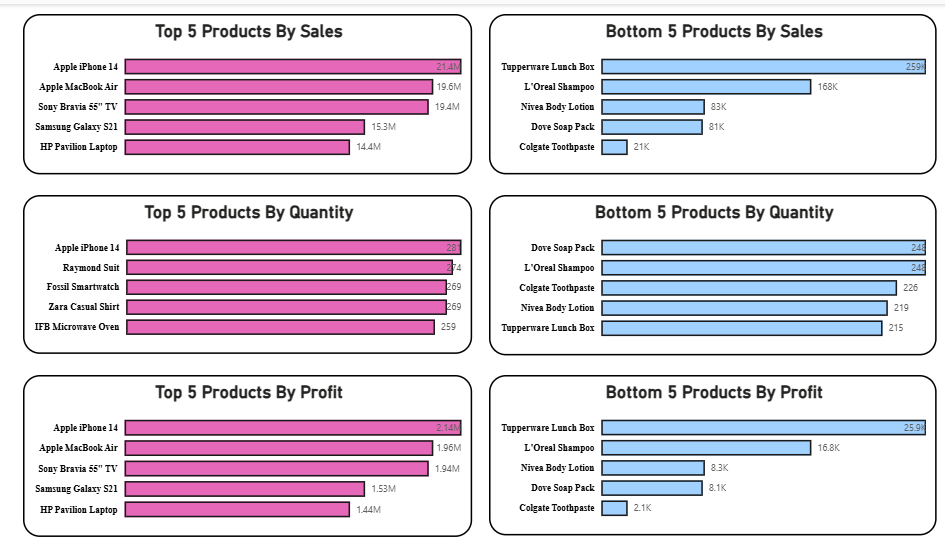

What the dashboard file says about the page in this screenshot:
{"tool":"powerbi","page":{"name":"Top 5 Products By Sales/Quantity Sold/Profit","canvas":[1280,720],"ordinal":0},"visuals":[{"type":"barChart","title":"Top 5 Products By Sales","fields":{"Y":["Sum(Fact Table.net sales.1)"],"Category":["Dim Product.Product Name"]},"box":[30.2,13.4,587.9,210],"z":0},{"type":"barChart","title":"Bottom 5 Products By Sales","fields":{"Y":["Sum(Fact Table.net sales.1)"],"Category":["Dim Product.Product Name"]},"box":[640,13.4,586.2,210],"z":1000},{"type":"barChart","title":"Top 5 Products By Quantity","fields":{"Y":["Sum(Fact Table.Units Sold)"],"Category":["Dim Product.Product Name"]},"box":[30.2,250.3,587.9,208.3],"z":2000},{"type":"barChart","title":"Bottom 5 Products By Quantity","fields":{"Y":["Sum(Fact Table.Units Sold)"],"Category":["Dim Product.Product Name"]},"box":[640,249.4,586.2,210],"z":3000},{"type":"barChart","title":"Top 5 Products By Profit","fields":{"Category":["Dim Product.Product Name"],"Y":["Sum(Fact Table.Profit)"]},"box":[30.2,485.5,587.9,211.7],"z":4000},{"type":"barChart","title":"Bottom 5 Products By Profit","fields":{"Category":["Dim Product.Product Name"],"Y":["Sum(Fact Table.Profit)"]},"box":[640,485.5,586.2,210],"z":5000}]}

Visuals, with their boxes on the page's 1280x720 design canvas (x1, y1, x2, y2). These are canvas units, not pixel positions in the 945x549 screenshot, which may show the page scaled, cropped or inside an application window:
"Top 5 Products By Sales" barChart: select_region(30, 13, 618, 223)
"Bottom 5 Products By Sales" barChart: select_region(640, 13, 1226, 223)
"Top 5 Products By Quantity" barChart: select_region(30, 250, 618, 459)
"Bottom 5 Products By Quantity" barChart: select_region(640, 249, 1226, 459)
"Top 5 Products By Profit" barChart: select_region(30, 486, 618, 697)
"Bottom 5 Products By Profit" barChart: select_region(640, 486, 1226, 696)
